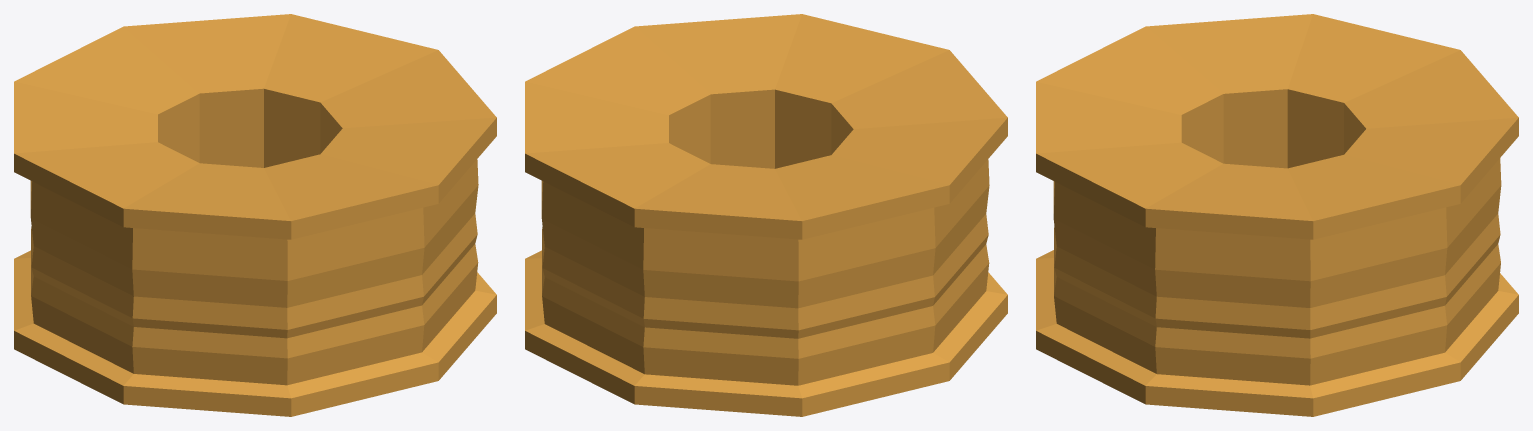
File: conductive-wire.fbx
3 renders of one model, left to right at view 1: azimuth 30°, elevation 25°; view 2: azimuth 150°, elevation 25°; view 3: azimuth 270°, elevation 25°, orthographic.
Visible parts, largest first — view 1: conductive-wire; view 2: conductive-wire; view 3: conductive-wire.
Boxes of the visible parts, bbox=[...] form: conductive-wire: bbox=[14, 14, 496, 416]; conductive-wire: bbox=[525, 14, 1007, 416]; conductive-wire: bbox=[1036, 14, 1518, 416].
Size of the model in its own units: 0.5909 by 0.2604 by 0.5819.
